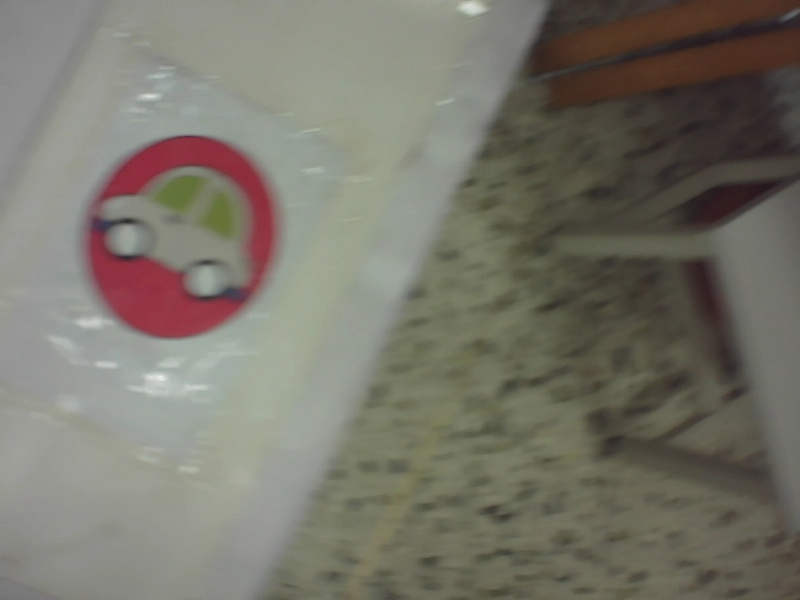areaC: (71, 128, 294, 343)
